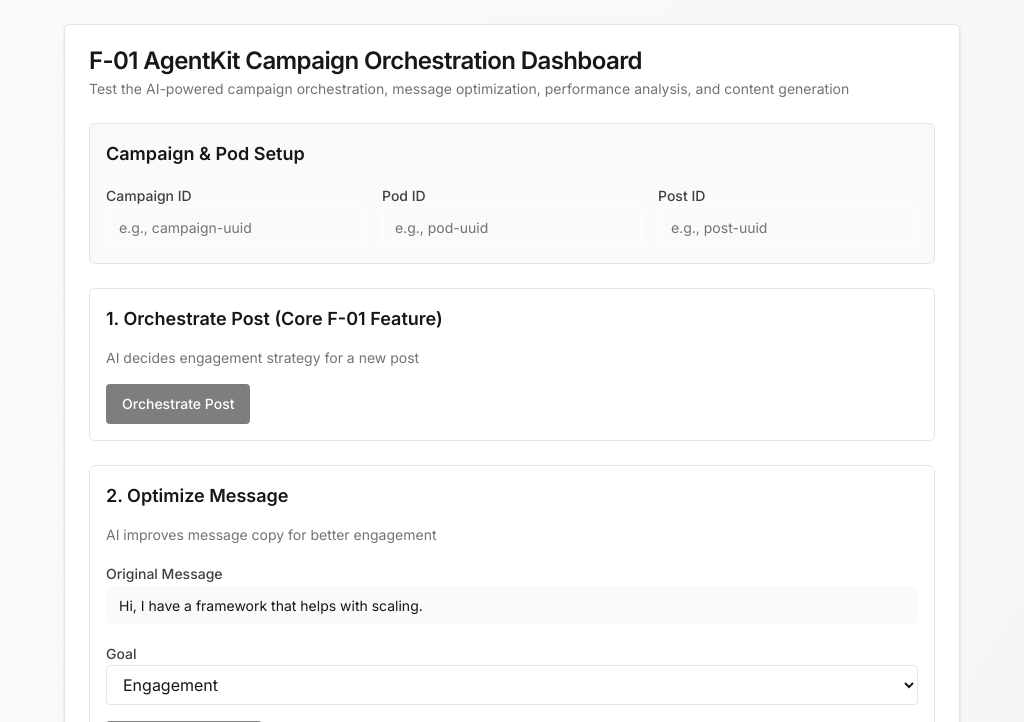
it: F-01 Orchestration Dashboard › API Calls - analyze_performance › should display analysis result
Fill fields and click
Type "campaign-123" into the field with placeholder "e.g., campaign-uuid".
click(236, 227); type("campaign-123")  # box [106,207,366,247]
(page scrolled)
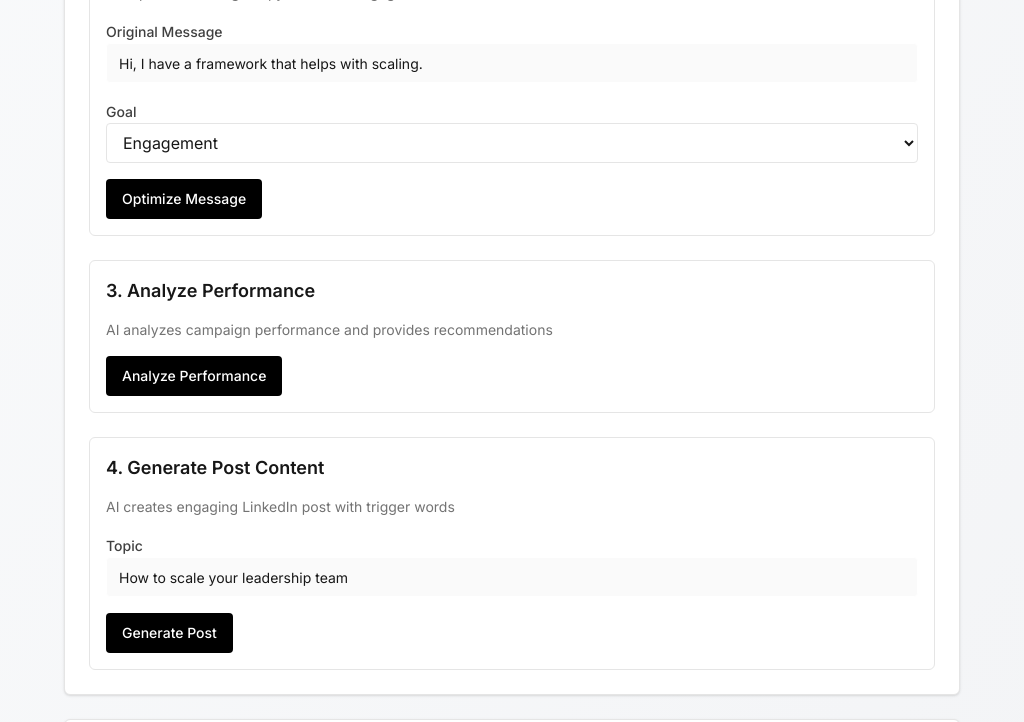
Click the button "Analyze Performance".
click(194, 376)  # box [106,356,282,396]
(page scrolled)
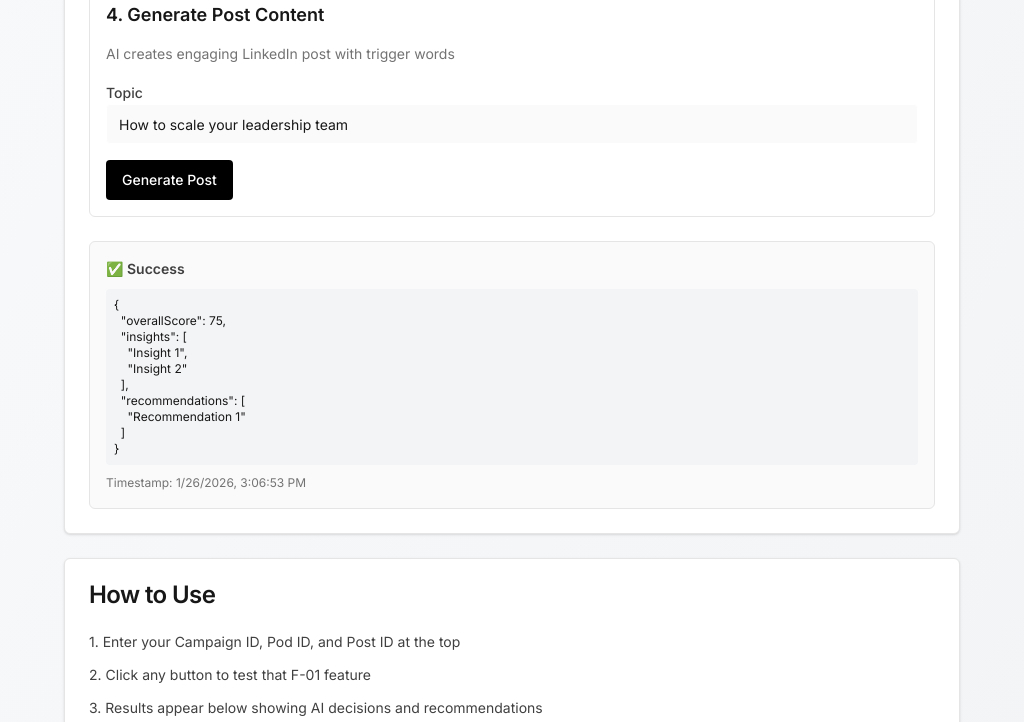
Expected: the text "✅ Success" is shown, [106,260,185,277]
Expected: the text "\"overallScore\"" is shown, [114,297,246,456]
